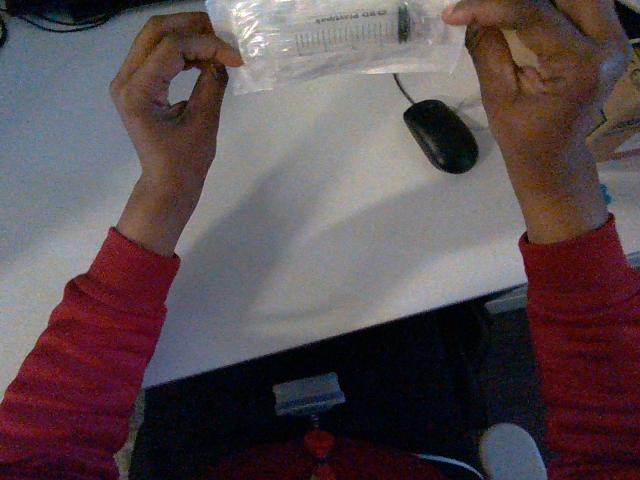syringe: (206, 0, 463, 92)
